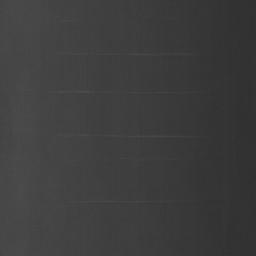Waist folding: (65, 132, 192, 139), (94, 199, 167, 204), (129, 52, 191, 57), (58, 89, 91, 95)
